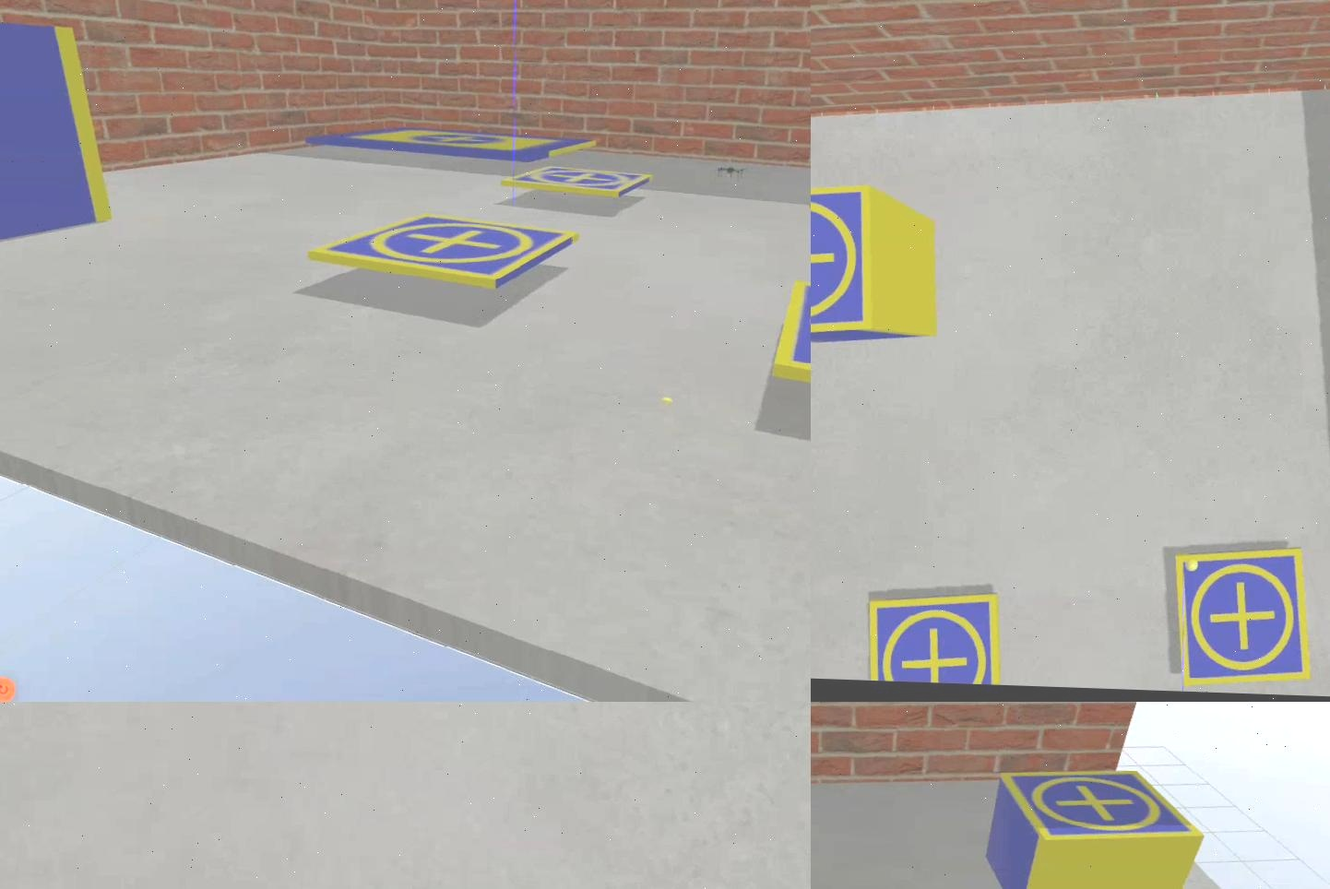large_base: (307, 122, 600, 172)
small_base: (312, 210, 585, 297), (1167, 543, 1313, 691), (998, 771, 1207, 847), (866, 587, 1001, 687), (812, 183, 874, 343), (503, 160, 655, 207)
